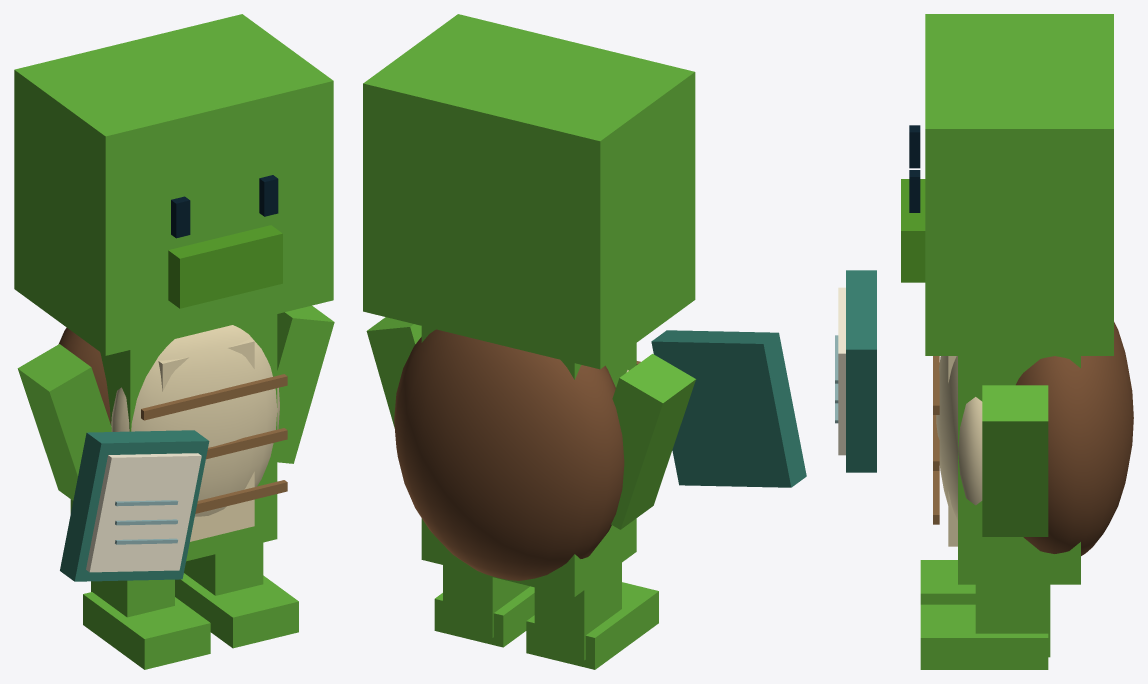
Rendered from turtle.glb.
The picture shows the model from 3 angles, left to right: view 1: azimuth 30°, elevation 25°; view 2: azimuth 150°, elevation 25°; view 3: azimuth 270°, elevation 25°; orthographic projection. The views are drawn at different scales.
Parts seen in each view (by area): view 1: turtle-part-00, turtle-part-10, turtle-part-16, turtle-part-05, turtle-part-15, turtle-part-14, turtle-part-01, turtle-part-04, turtle-part-08, turtle-part-07, turtle-part-06, turtle-part-02 (+7 smaller); view 2: turtle-part-00, turtle-part-09, turtle-part-15, turtle-part-05, turtle-part-01, turtle-part-03, turtle-part-04, turtle-part-06, turtle-part-08, turtle-part-07; view 3: turtle-part-00, turtle-part-09, turtle-part-08, turtle-part-01, turtle-part-07, turtle-part-15, turtle-part-10, turtle-part-06, turtle-part-14, turtle-part-04, turtle-part-16, turtle-part-20 (+2 smaller).
Part boxes in pixels (x1,y1,x2,y2): turtle-part-00: (14,14,333,355); turtle-part-10: (111,325,279,516); turtle-part-16: (86,453,201,572); turtle-part-05: (17,344,111,500); turtle-part-15: (60,430,209,581); turtle-part-14: (168,225,282,308); turtle-part-01: (70,314,277,561); turtle-part-04: (83,592,210,669); turtle-part-08: (277,305,334,463); turtle-part-07: (175,573,298,648); turtle-part-06: (184,542,263,595); turtle-part-02: (158,338,254,541); turtle-part-00: (363,14,695,369); turtle-part-09: (394,329,624,580); turtle-part-15: (651,330,806,487); turtle-part-05: (611,354,695,529); turtle-part-01: (421,326,636,596); turtle-part-03: (534,563,621,660); turtle-part-04: (526,582,658,669); turtle-part-06: (443,565,529,637); turtle-part-08: (366,317,421,427); turtle-part-07: (434,586,534,647); turtle-part-00: (925,14,1113,355); turtle-part-09: (1016,322,1133,555); turtle-part-08: (982,385,1048,536); turtle-part-01: (958,356,1080,584); turtle-part-07: (920,604,1048,669); turtle-part-15: (846,270,876,472); turtle-part-10: (936,356,982,520); turtle-part-06: (975,584,1050,657); turtle-part-14: (901,179,925,282); turtle-part-04: (920,560,975,604); turtle-part-16: (838,287,845,455); turtle-part-20: (909,125,920,168).
Bounding box in the file's own units: 1.77 × 2.81 × 1.36.
